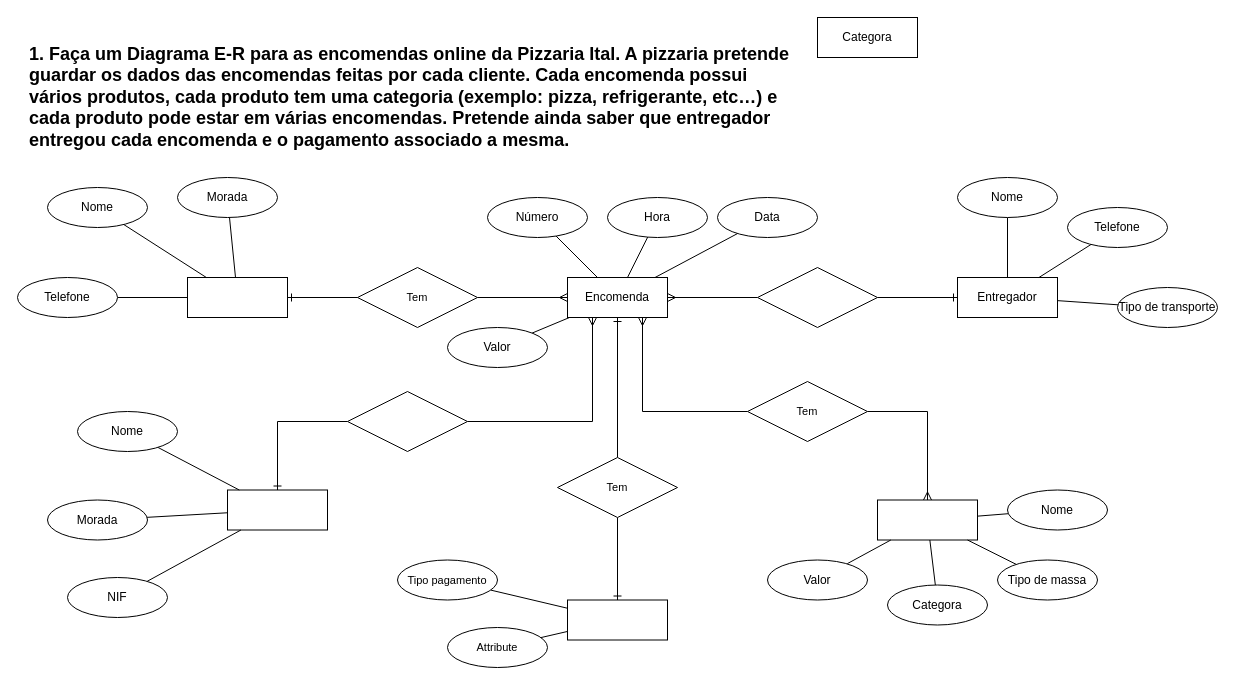
Image size: 1235x685. Some labels were removed from this diagram. Here are the shapes that lost their labels. From the top down, the centre of each, then its label:
pixel 237 297: Pizzaria
pixel 817 297: Realizada
pixel 407 421: É feita
pixel 277 509: Cliente
pixel 927 519: Produto
pixel 617 619: Pagamento
